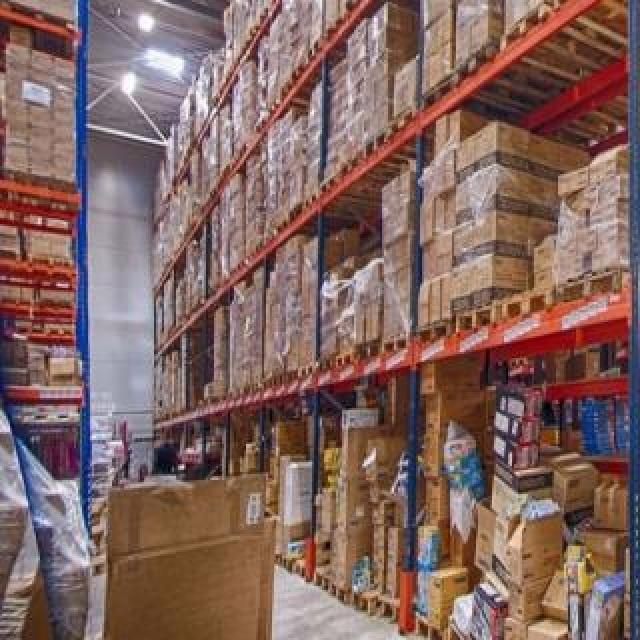fluorescent tube: (138, 42, 189, 94)
